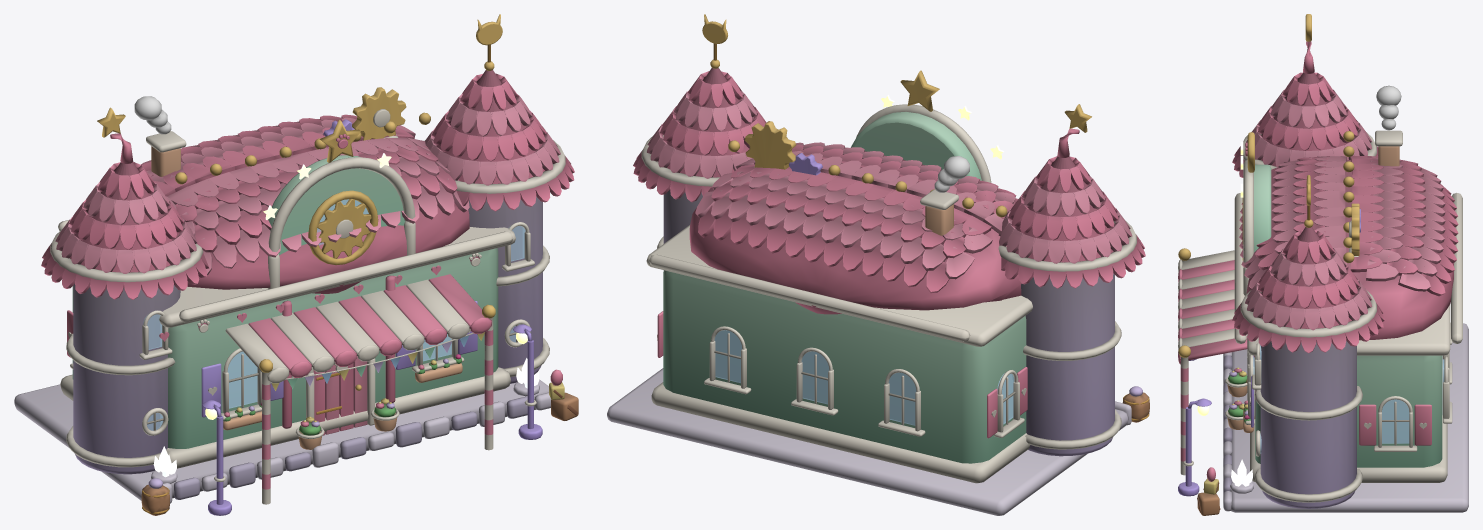
File: workshop.glb
3 renders of one model, left to right at view 1: azimuth 30°, elevation 25°; view 2: azimuth 150°, elevation 25°; view 3: azimuth 270°, elevation 25°, orthographic. The views are drawn at different scales.
Parts seen in each view (by area): view 1: WORKSHOP__body; view 2: WORKSHOP__body; view 3: WORKSHOP__body.
Boxes of the visible parts, left/top/right/bottom form: WORKSHOP__body: left=14, top=14, right=578, bottom=515; WORKSHOP__body: left=607, top=14, right=1149, bottom=515; WORKSHOP__body: left=1178, top=14, right=1468, bottom=515.
Bounding box in the file's own units: 2 × 1.37 × 1.1.
